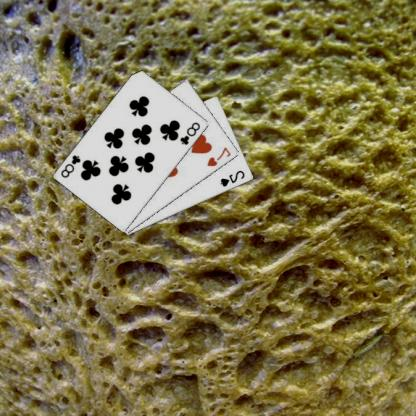2S: (220, 168, 248, 188)
7H: (206, 144, 234, 168)
8C: (179, 119, 204, 146), (60, 152, 84, 179)
